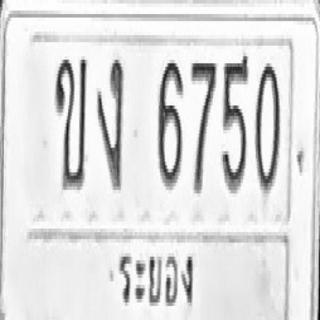A02: (54, 56, 87, 190)
A07: (97, 56, 124, 190)
N00: (254, 60, 280, 193)
N05: (222, 53, 248, 193)
N06: (157, 58, 183, 188)
N07: (190, 58, 217, 192)
P53: (114, 239, 198, 317)
